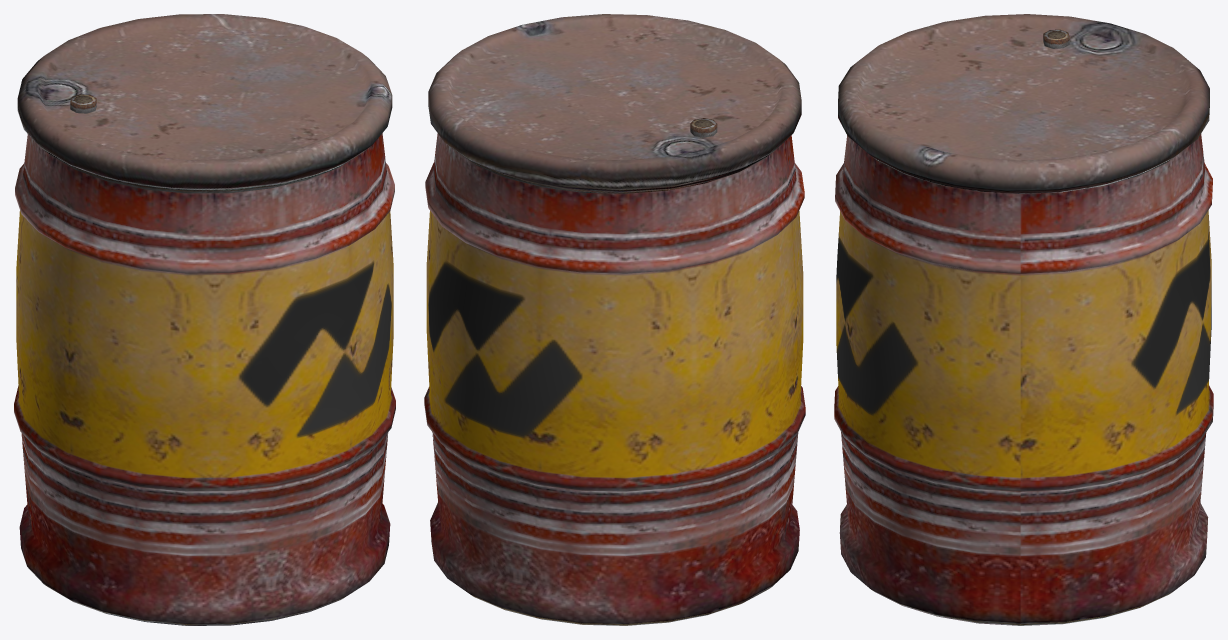
Rendered from Drumnew.fbx.
3 views of the same model, side by side, from view 1: azimuth 30°, elevation 25°; view 2: azimuth 150°, elevation 25°; view 3: azimuth 270°, elevation 25° (orthographic).
Parts seen in each view (by area): view 1: Drum; view 2: Drum; view 3: Drum.
Boxes of the visible parts, bbox=[...] form: Drum: bbox=[14, 14, 395, 625]; Drum: bbox=[424, 14, 805, 625]; Drum: bbox=[834, 14, 1213, 625].
Bounding box in the file's own units: 75.32 × 101 × 74.95.
1 material, 1 textured.
